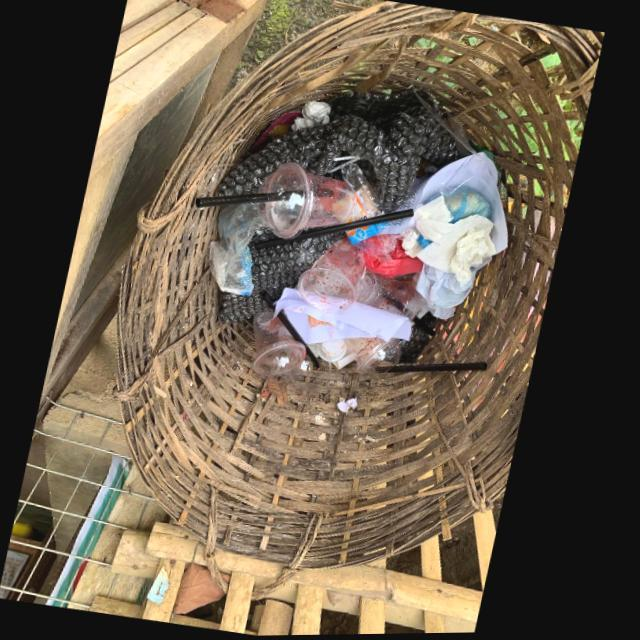paper: (379, 153, 510, 255), (276, 289, 415, 345)
plastic: (259, 161, 358, 239), (301, 238, 369, 315), (213, 204, 267, 296), (256, 314, 309, 384), (360, 272, 424, 321), (347, 339, 405, 377)
